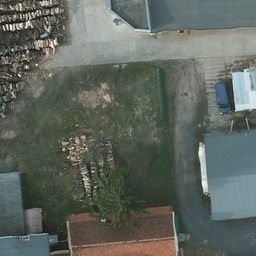car: (214, 83, 233, 114)
